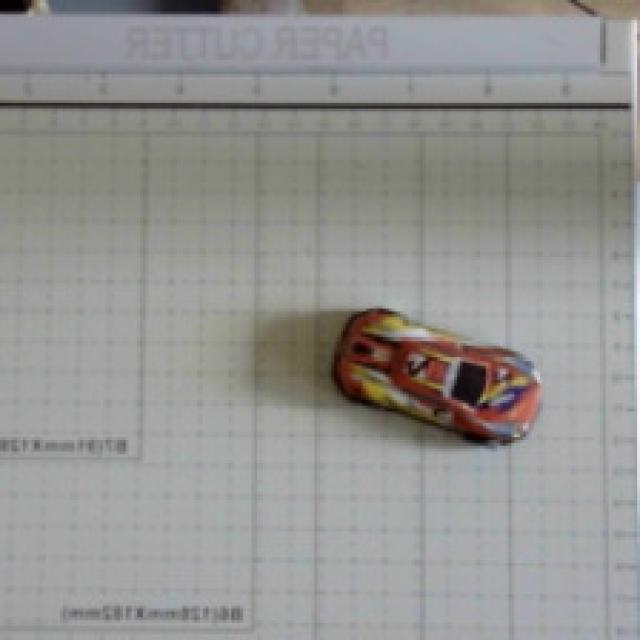Red Car: (314, 267, 588, 468)
